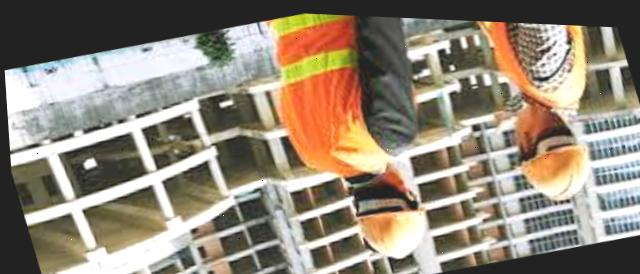helmet: (493, 131, 607, 218), (338, 187, 443, 268)
vest: (229, 8, 431, 205), (459, 16, 617, 119)
